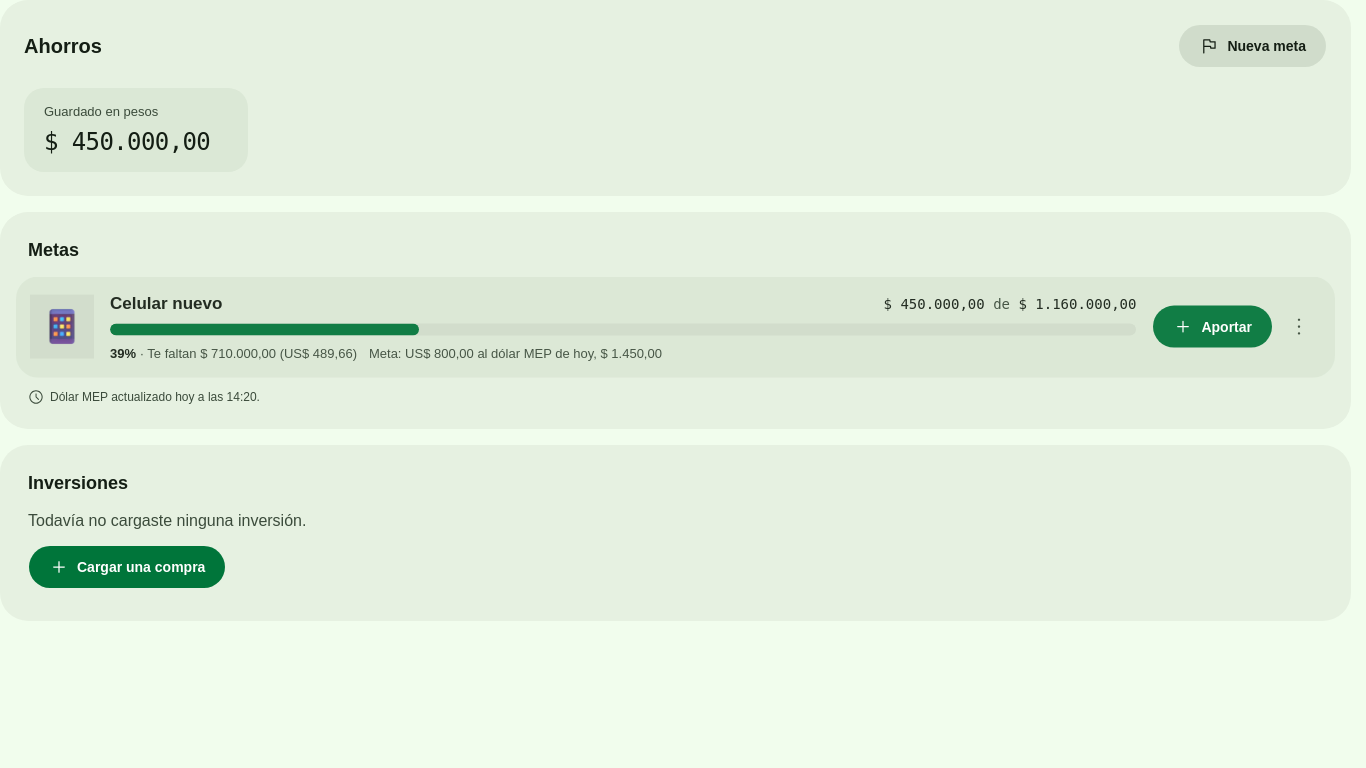
SavingsPage › deletes a goal after confirming
The width and height of the screenshot is (1366, 768).
Click the button named "Acciones de la meta Celular nuevo": (1299, 327) [1277,305,1321,349]
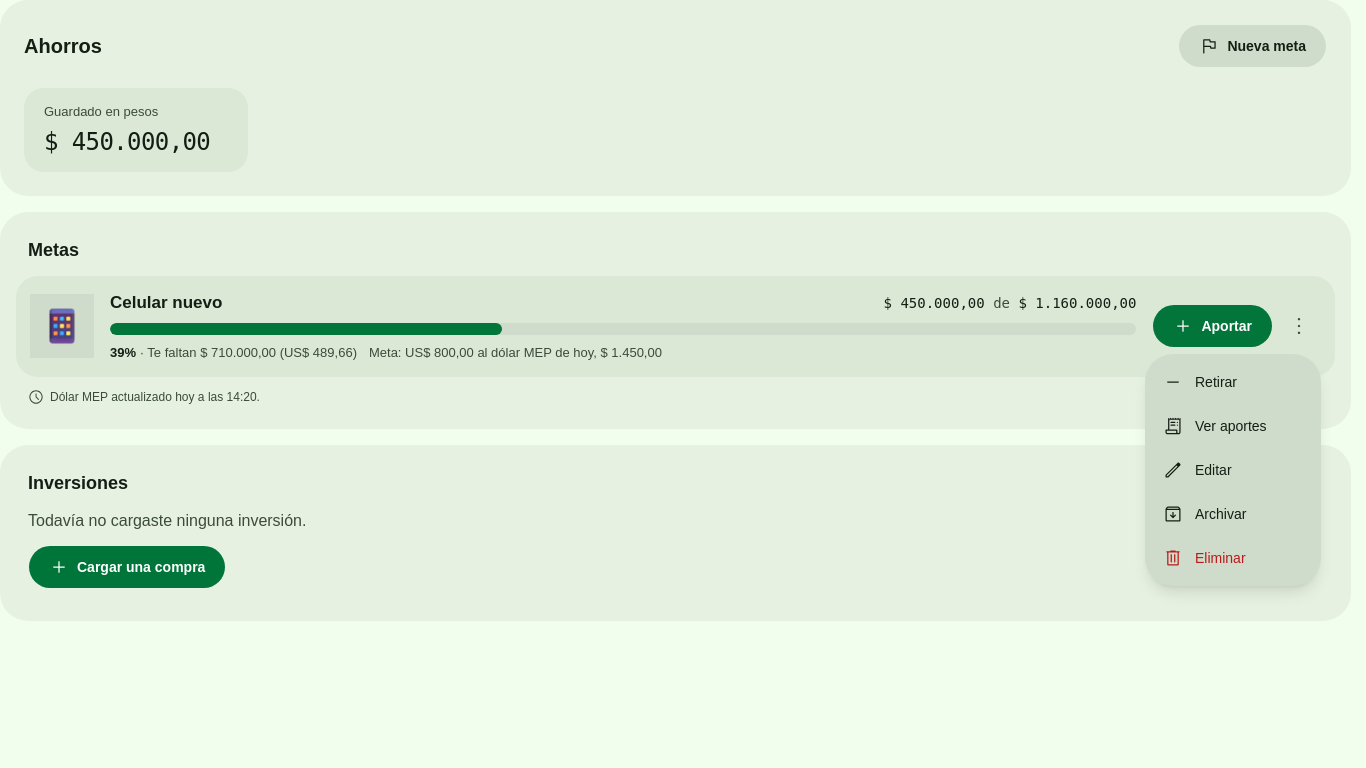
Click the menu item "Eliminar": (1204, 558) [1163,548,1246,568]
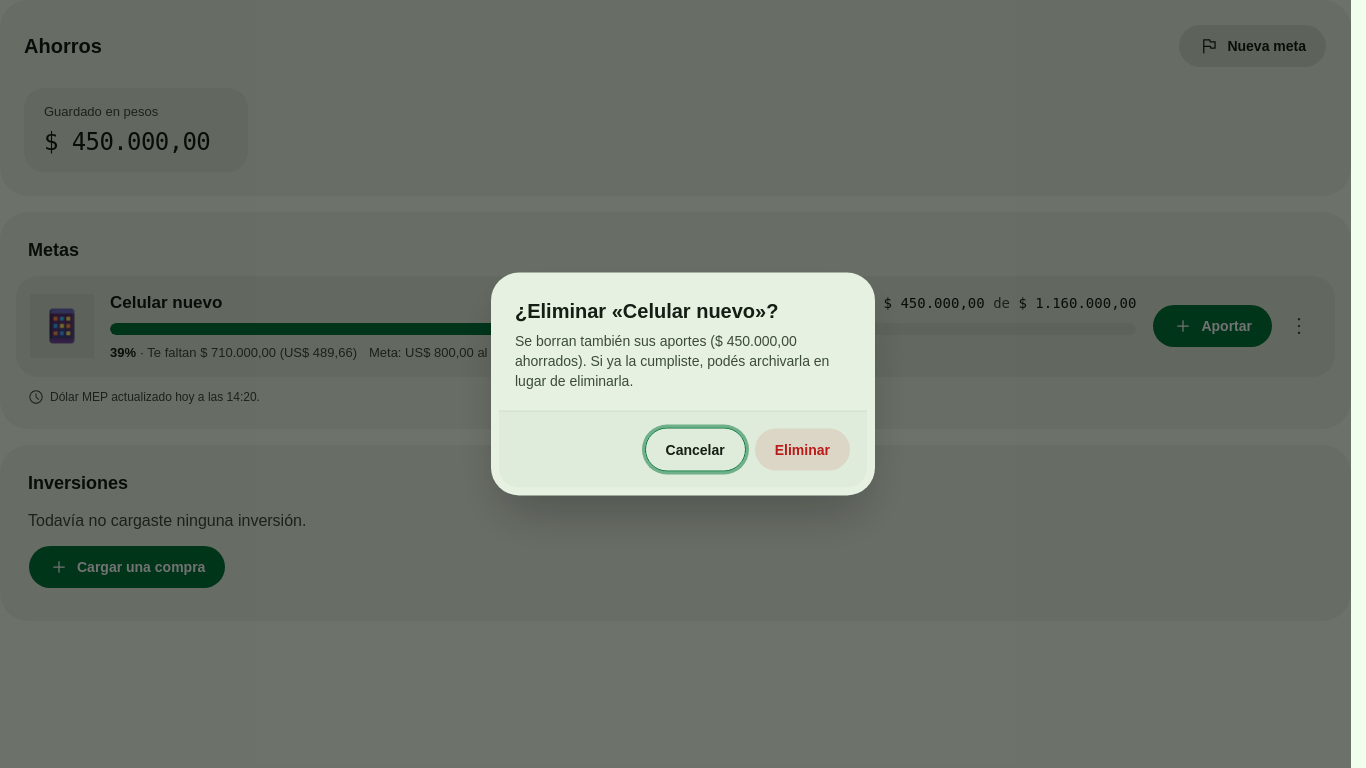
expect the dialog "¿Eliminar «Celular nuevo»?" shows "Se borran también sus aportes ($ 450.000,00 ahorrados).": met, box [491,272,875,496]
Click the button "Eliminar": (802, 450) [754,428,851,472]
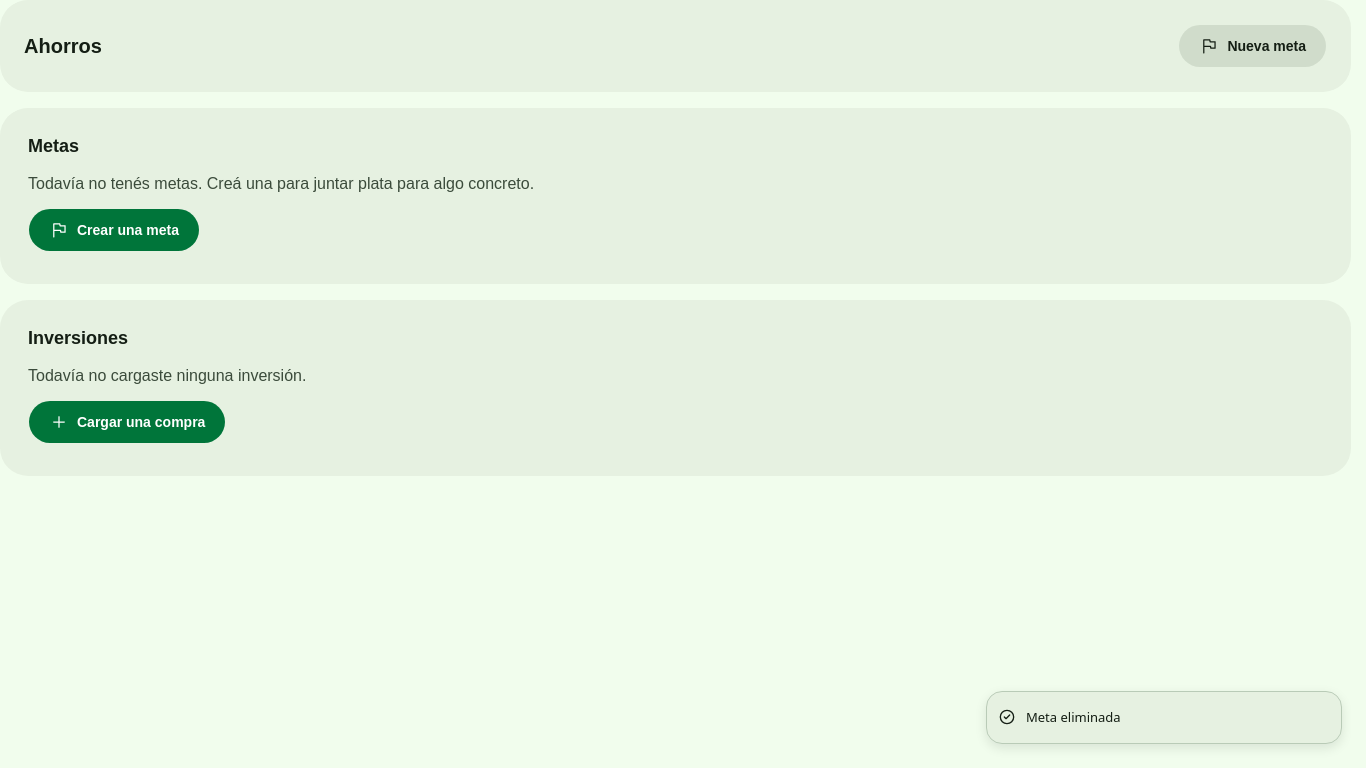
expect the button "Crear una meta" is shown: met, box [28,208,200,252]
